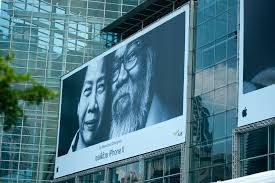poster: (53, 4, 192, 179)
